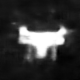plane: (14, 24, 74, 64)
